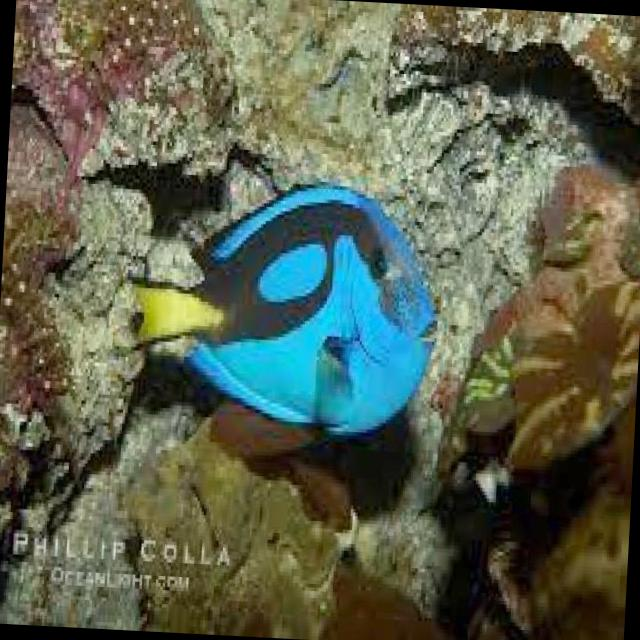BlueTang: (123, 172, 447, 442)
